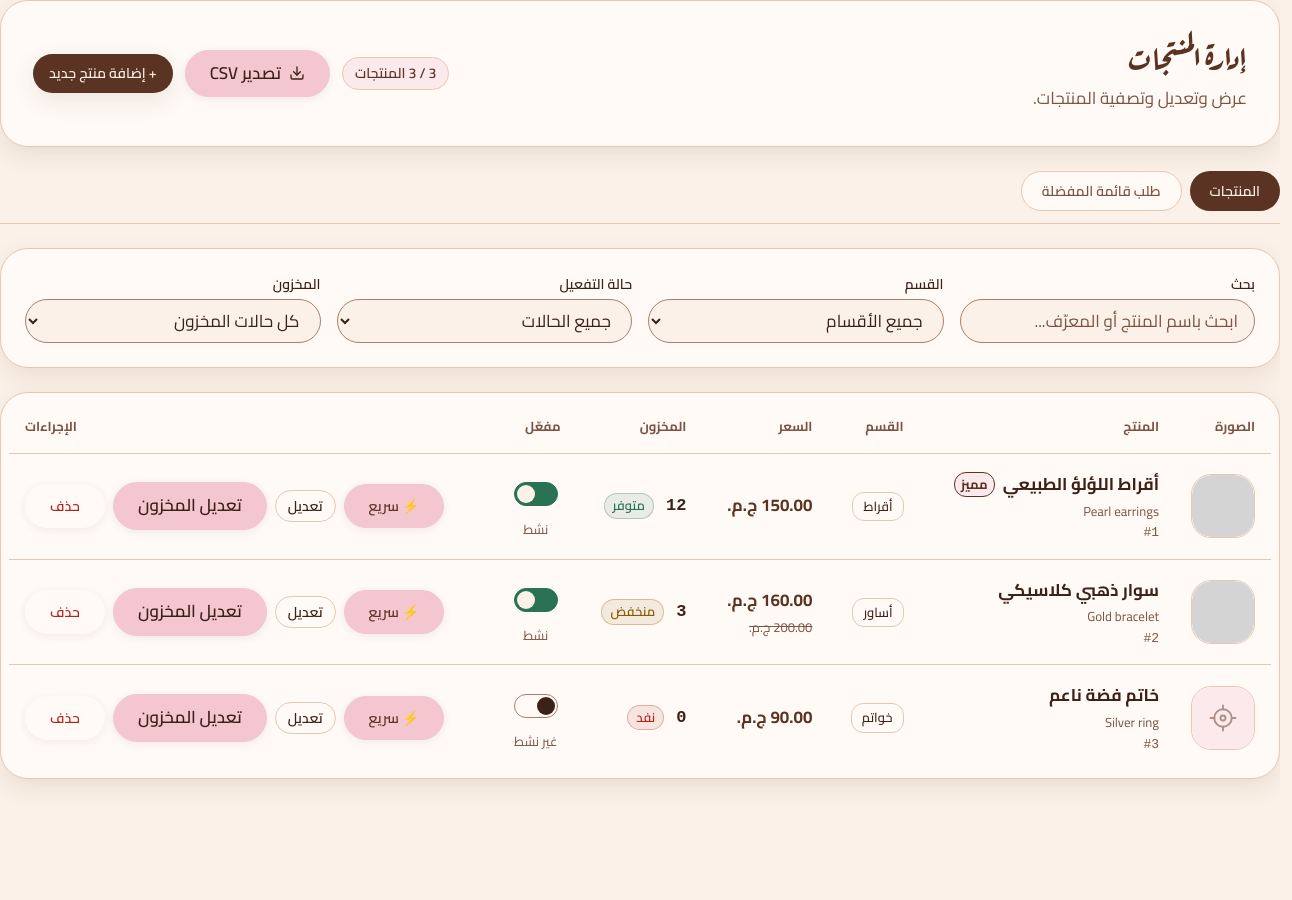
Test: Admin Products Management (T-5.02) › Filtering and search › filters products by category dropdown
Expected: the text "أقراط اللؤلؤ الطبيعي" is shown, top-left (1003, 470), bottom-right (1159, 500)
Select "أساور" in the dropdown labelled "القسم". click: x=796, y=321
box: top-left (648, 299), bottom-right (944, 343)
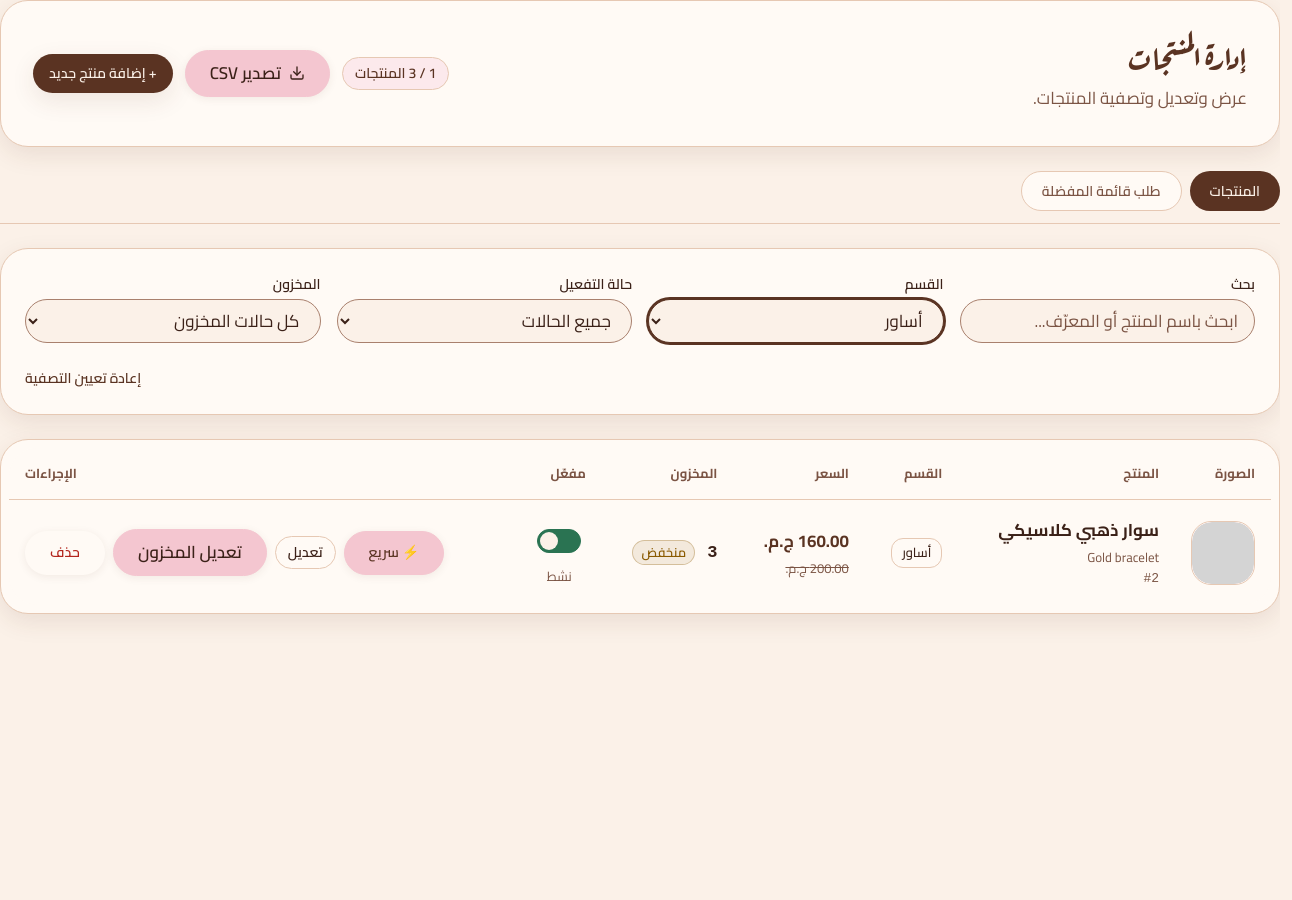
Expected: the text "سوار ذهبي كلاسيكي" is shown, top-left (998, 516), bottom-right (1159, 546)
Expected: the text "أقراط اللؤلؤ الطبيعي" is gone
Expected: the text "خاتم فضة ناعم" is gone
